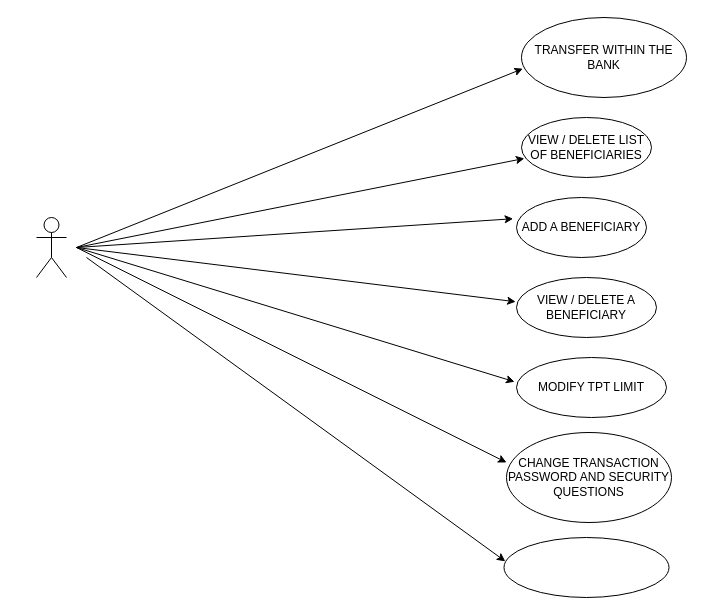
This 704x615 diagram has some shape labels left out. Each missing label, with the box of its shape:
CUSTOMER: (36, 216, 66, 278)
WITHDRAW MONEY: (503, 536, 669, 598)
